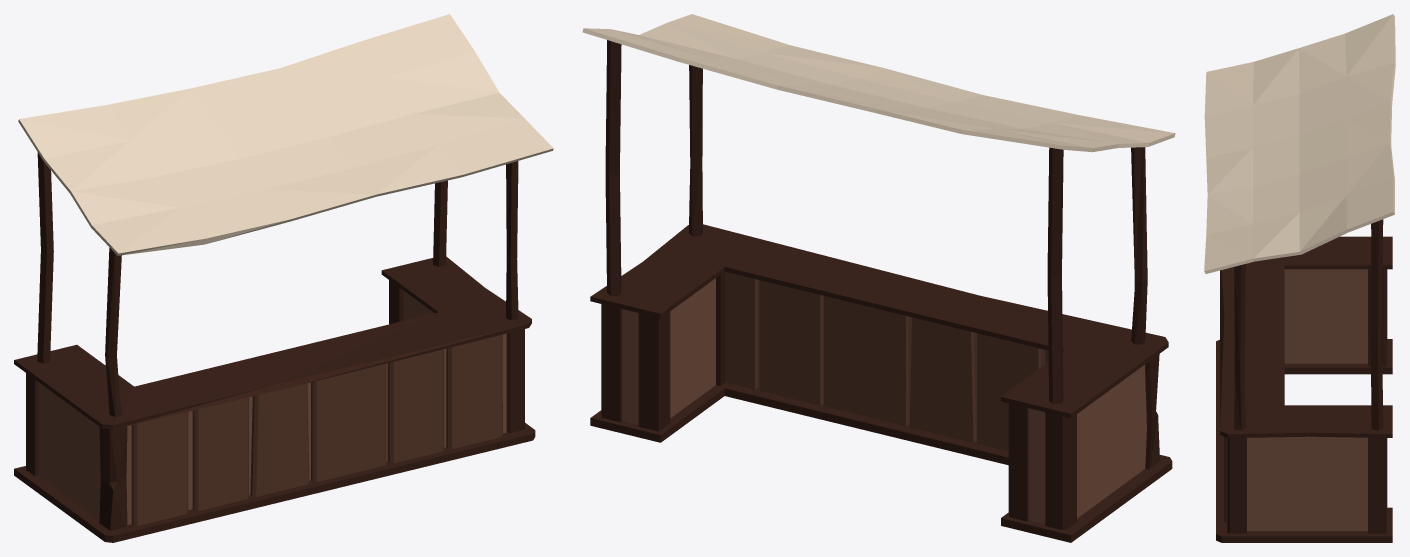
The model's file is Stall Asia.fbx.
3 renders of one model, left to right at view 1: azimuth 30°, elevation 25°; view 2: azimuth 150°, elevation 25°; view 3: azimuth 270°, elevation 25°, orthographic. The views are drawn at different scales.
Parts seen in each view (by area): view 1: Stall; view 2: Stall; view 3: Stall.
Boxes of the visible parts, bbox=[...] form: Stall: bbox=[14, 14, 553, 542]; Stall: bbox=[582, 14, 1175, 542]; Stall: bbox=[1204, 14, 1395, 542].
Bounding box in the file's own units: 2.48 × 1.91 × 0.9962.
